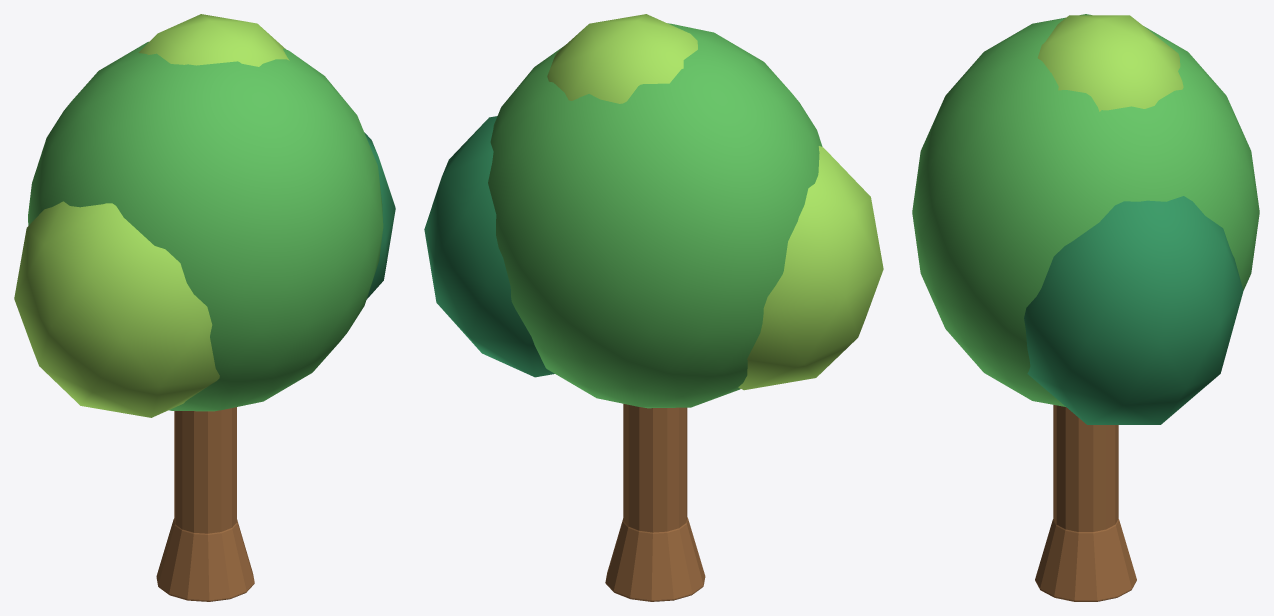
Rendered from SM_Tree.fbx.
3 views of the same model, side by side, from view 1: azimuth 30°, elevation 25°; view 2: azimuth 150°, elevation 25°; view 3: azimuth 270°, elevation 25° (orthographic). The views are drawn at different scales.
Parts seen in each view (by area): view 1: Crown center, Crown light, Tapered trunk, Trunk base flare, Crown top, Crown dark; view 2: Crown center, Crown light, Crown dark, Crown top, Tapered trunk, Trunk base flare; view 3: Crown center, Crown dark, Crown top, Tapered trunk, Trunk base flare.
Part boxes in pixels (bbox=[...]): Crown center: bbox=[28, 41, 383, 411]; Crown light: bbox=[14, 201, 219, 417]; Tapered trunk: bbox=[174, 407, 236, 533]; Trunk base flare: bbox=[156, 518, 254, 601]; Crown top: bbox=[138, 14, 289, 66]; Crown dark: bbox=[364, 132, 395, 299]; Crown center: bbox=[488, 23, 822, 408]; Crown light: bbox=[738, 146, 883, 390]; Crown dark: bbox=[424, 116, 554, 377]; Crown top: bbox=[547, 14, 697, 103]; Tapered trunk: bbox=[623, 404, 687, 532]; Trunk base flare: bbox=[605, 517, 705, 601]; Crown center: bbox=[912, 14, 1259, 406]; Crown dark: bbox=[1024, 196, 1243, 424]; Crown top: bbox=[1037, 15, 1183, 111]; Tapered trunk: bbox=[1053, 405, 1118, 531]; Trunk base flare: bbox=[1035, 519, 1136, 601].
Size of the model in its own units: 3.32 by 4.61 by 2.56.
